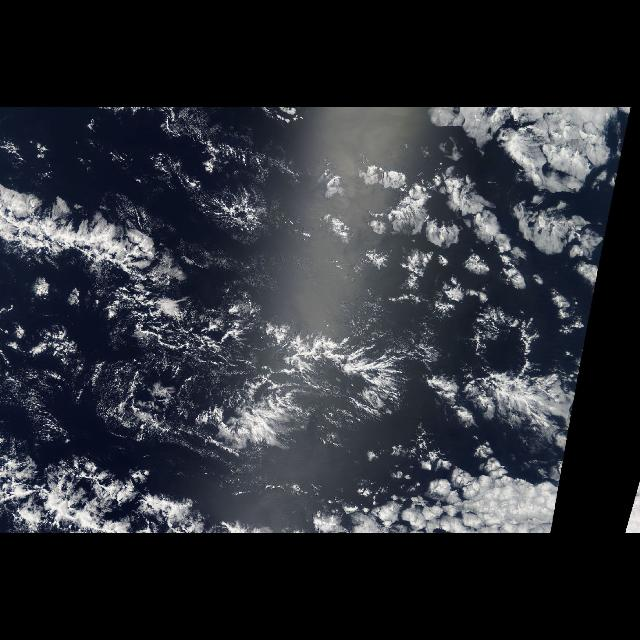Fish: (0, 170, 422, 428)
Flower: (308, 107, 622, 531)
